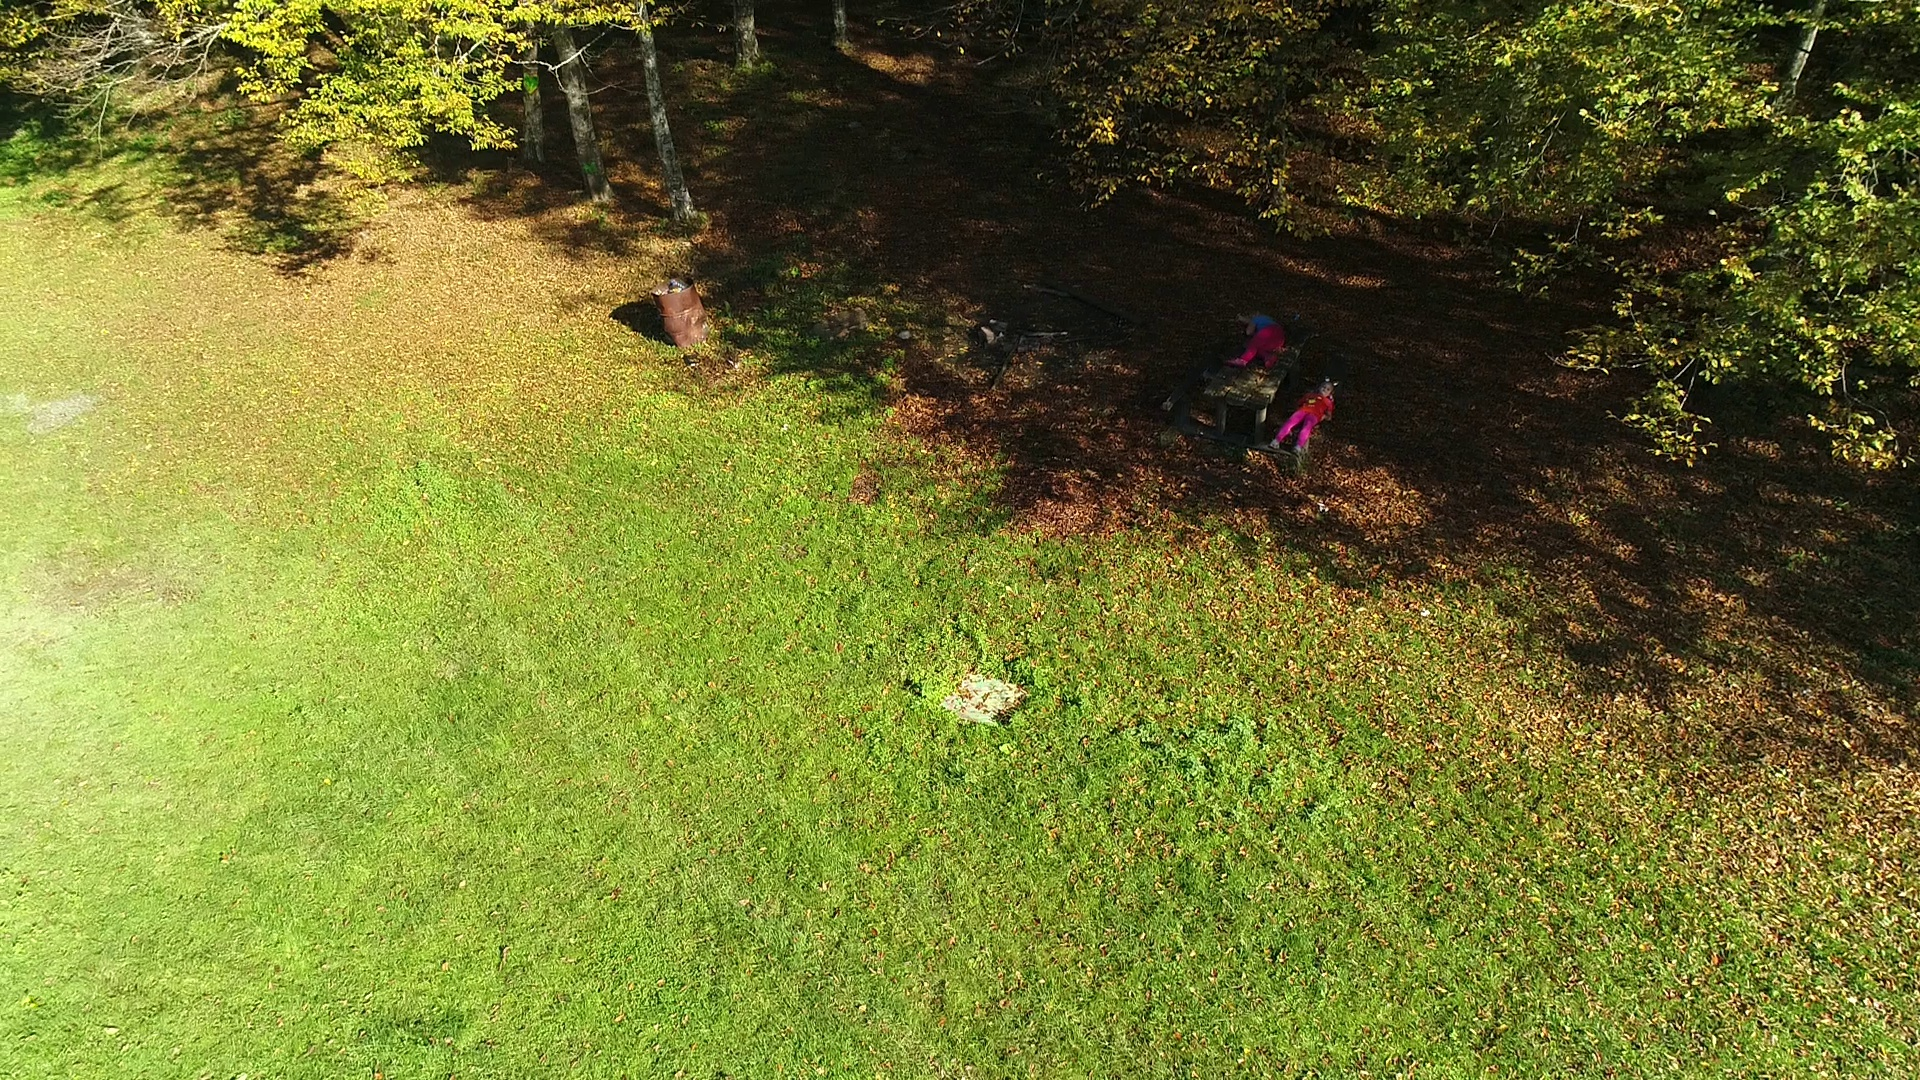person: (1267, 380, 1334, 455), (1224, 310, 1285, 367)
